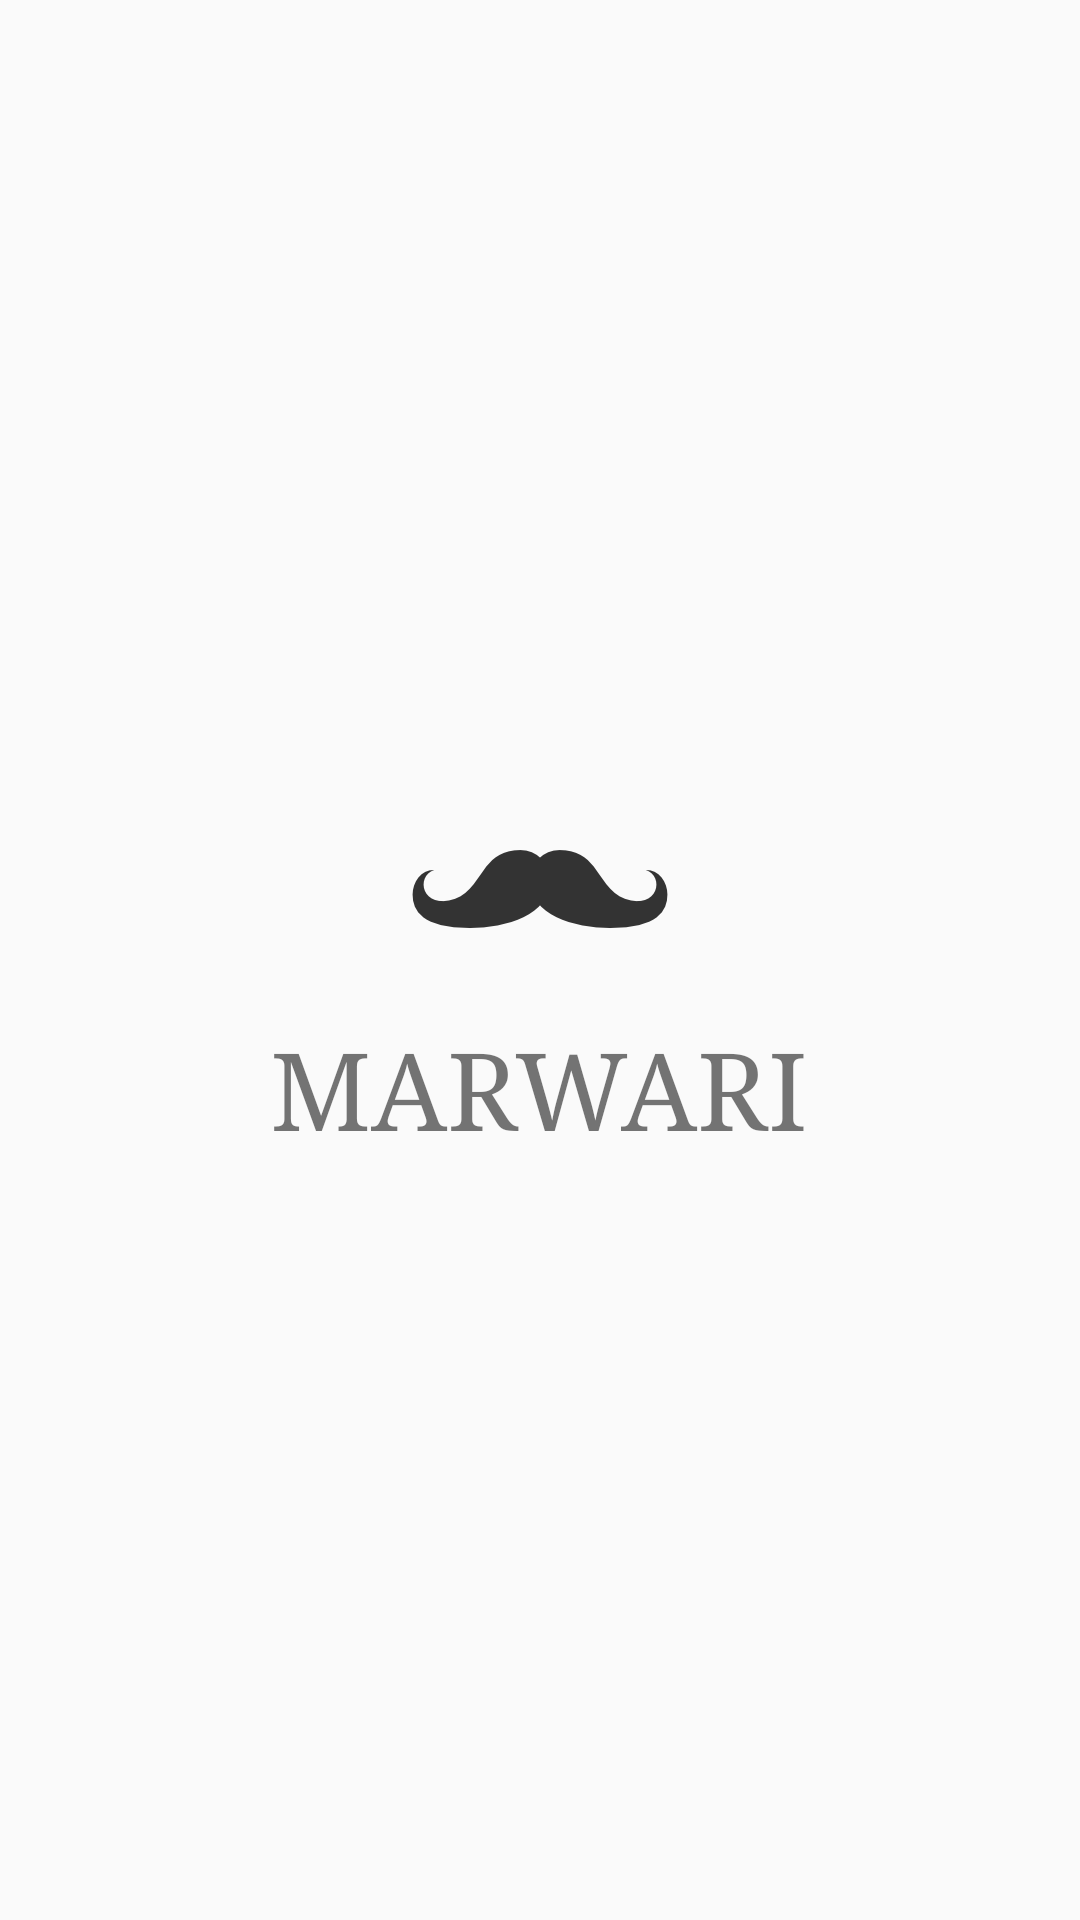

Icons on this 1080w x 1920h Android screen, each with the point to tap as point (x, y):
mush: point (540, 889)
